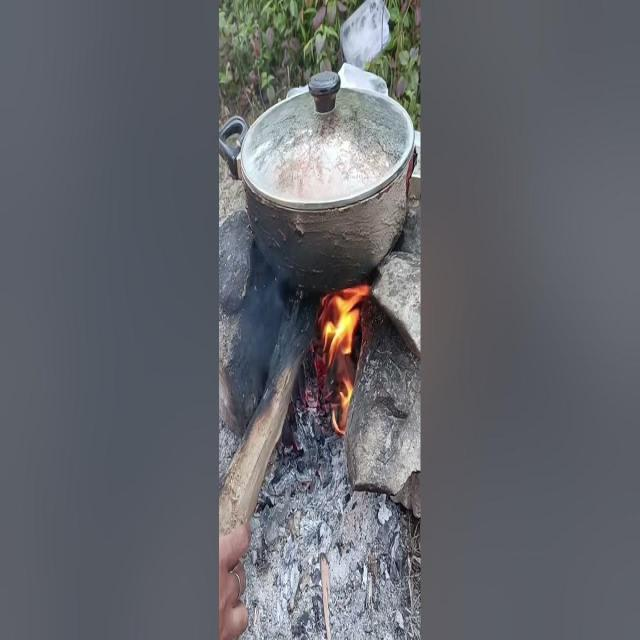fire: (310, 285, 370, 435)
